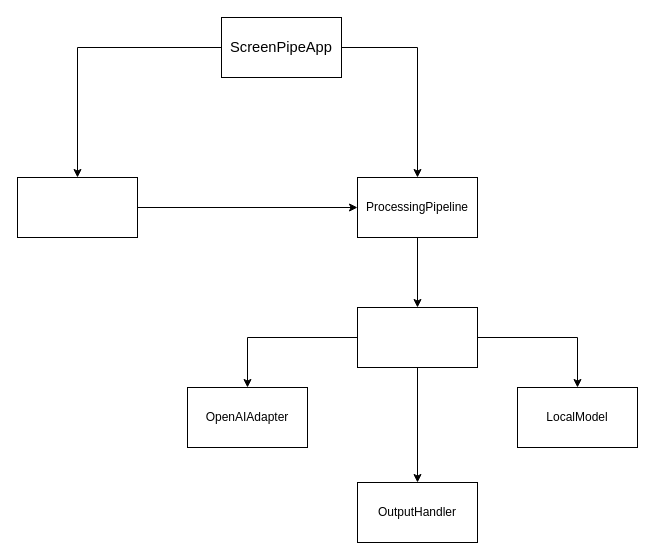
The diagram is 655 pixels wide and 560 high, and some of its shapes have lost their labels. The box of each missing label's shape, as (x1, y1, x2, y2) in pixels:
CaptureService: (16, 176, 138, 238)
LLMService: (356, 306, 478, 368)
